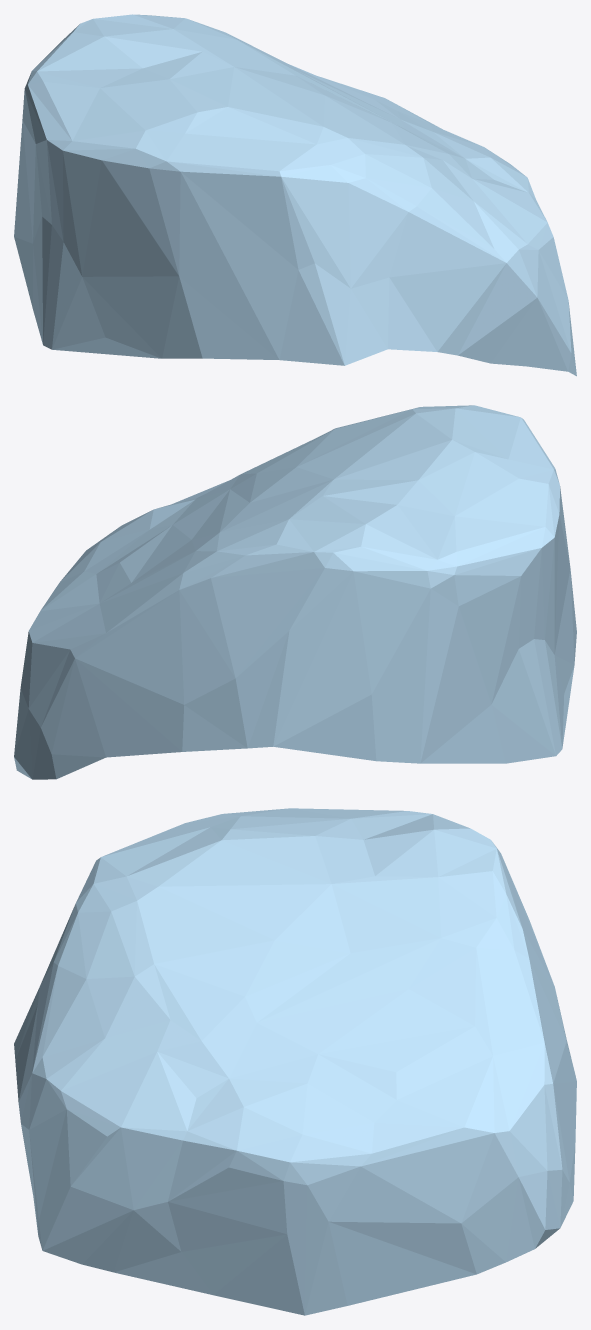
Rendered from PROP_Ice_FloorS04.FBX.
3 views of the same model, one above another, from view 1: azimuth 30°, elevation 25°; view 2: azimuth 150°, elevation 25°; view 3: azimuth 270°, elevation 25° (orthographic). The views are drawn at different scales.
Parts seen in each view (by area): view 1: PROP_Ice_FloorS04; view 2: PROP_Ice_FloorS04; view 3: PROP_Ice_FloorS04.
Part boxes in pixels (x1,y1,x2,y2): PROP_Ice_FloorS04: [14, 14, 576, 376]; PROP_Ice_FloorS04: [14, 405, 576, 779]; PROP_Ice_FloorS04: [14, 808, 576, 1315].
Bounding box in the file's own units: 683 × 433 × 700.
1 material, 1 textured.
